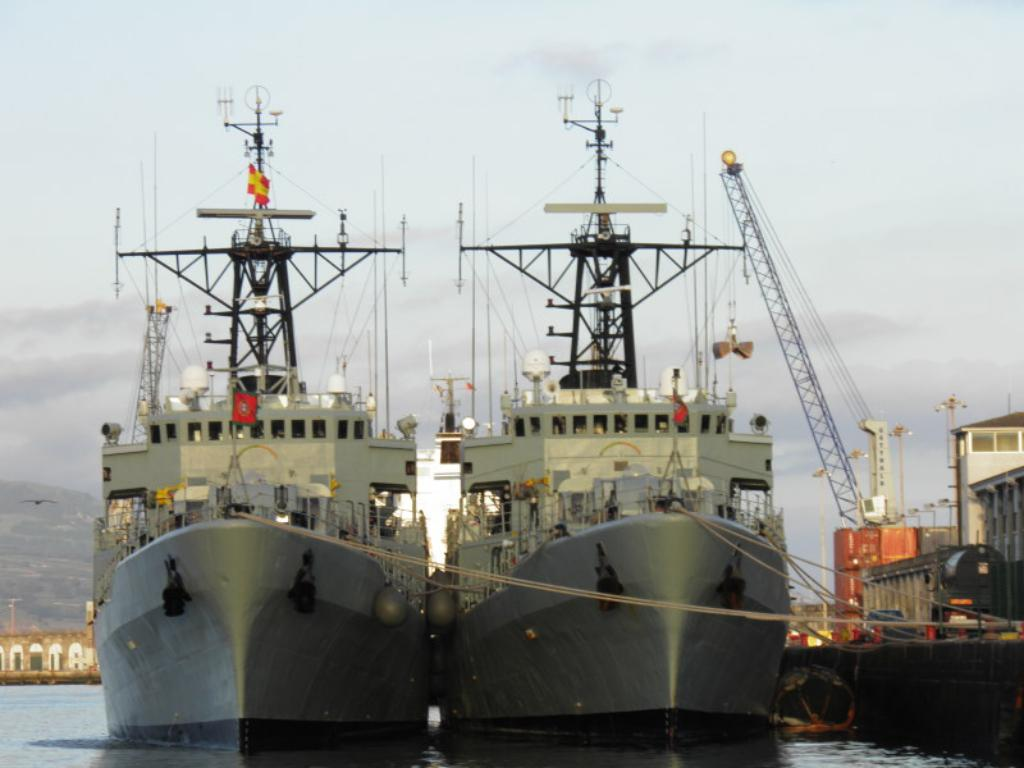Warship: (436, 74, 796, 752), (86, 65, 432, 757)
